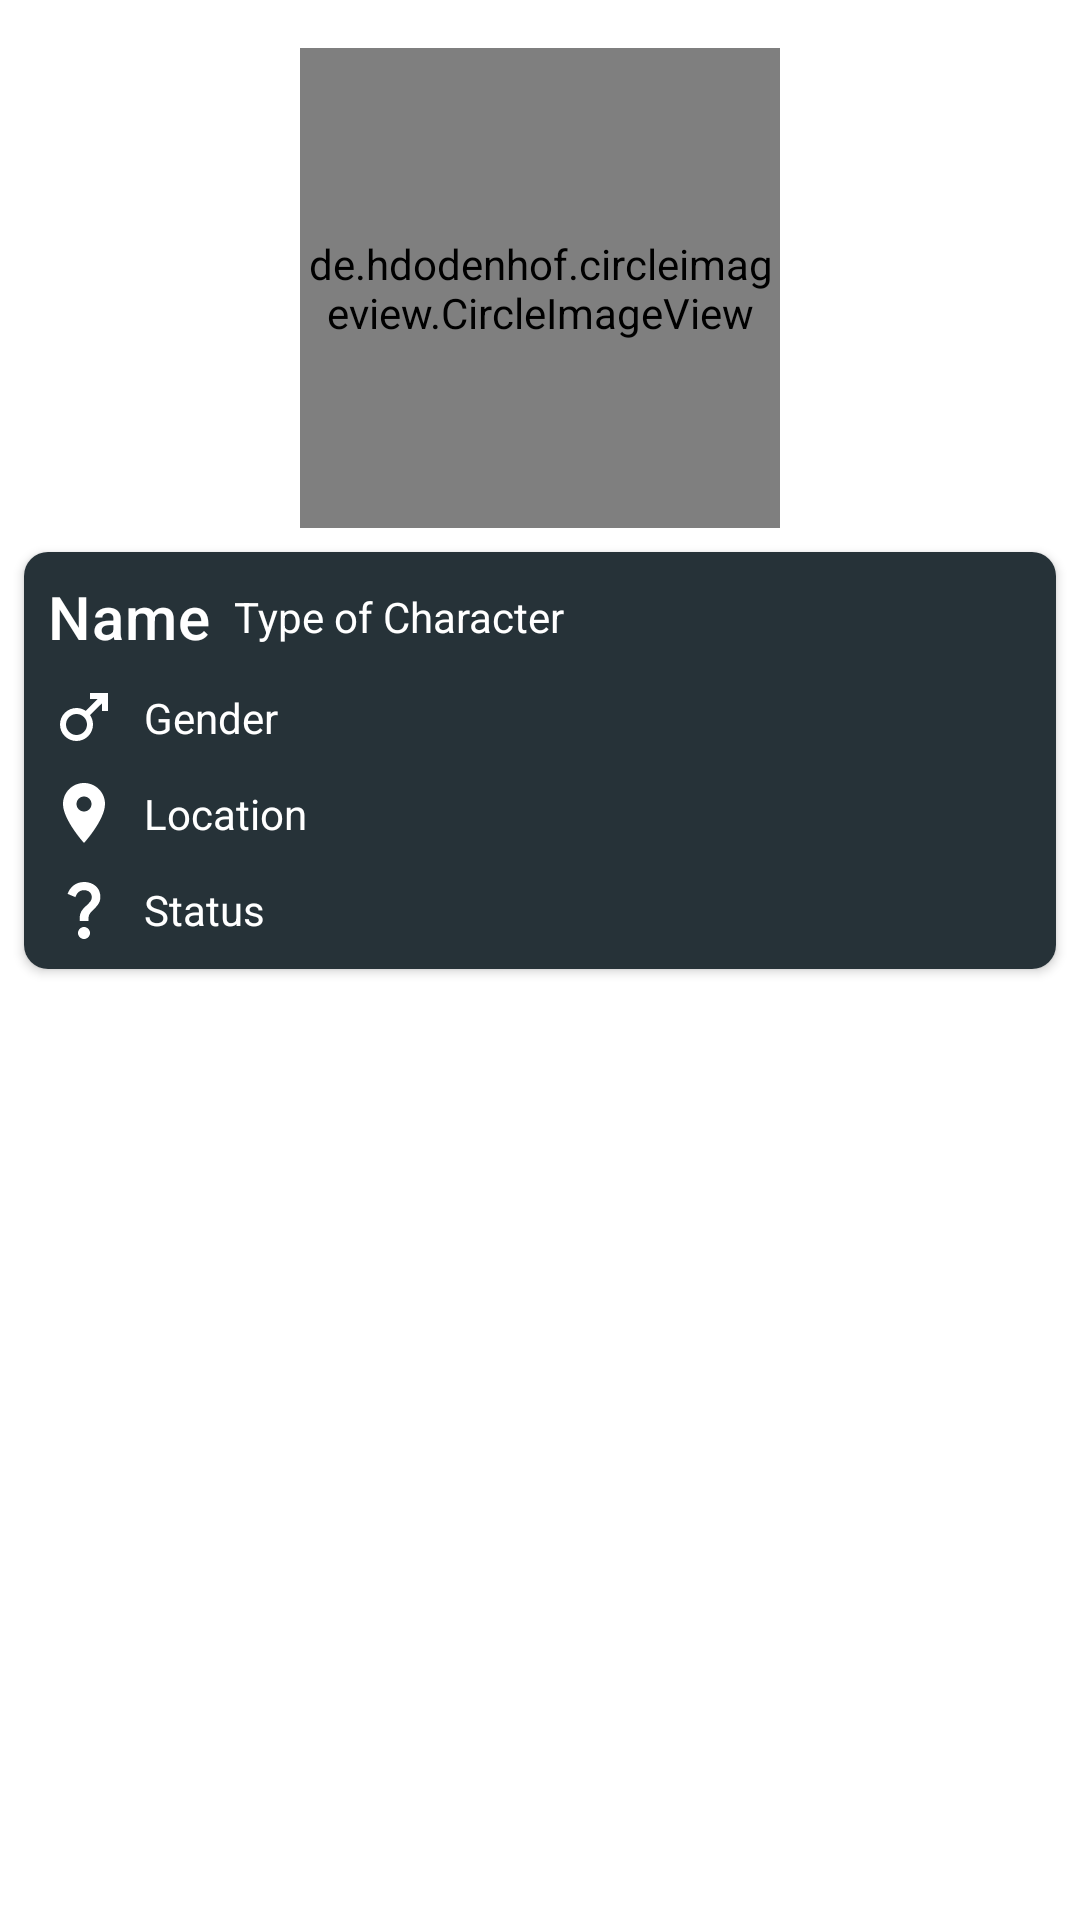

Named icons in this screenshot (1080*1920) and their bounding boxes, [x1,y1,x2,y2]:
male: [60,693,108,741]
unknown: [67,882,101,939]
